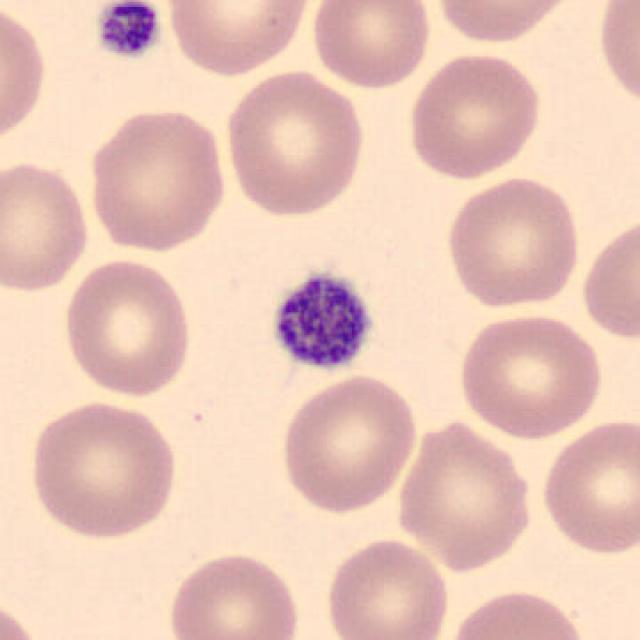Platelets: (267, 266, 377, 376), (89, 0, 165, 62)
RBC: (391, 416, 539, 575), (220, 67, 370, 220), (25, 397, 181, 541), (84, 104, 231, 254), (276, 370, 420, 517), (454, 308, 606, 442), (441, 173, 585, 310), (58, 256, 195, 400), (404, 50, 546, 182), (537, 414, 638, 557), (322, 534, 453, 640), (0, 155, 92, 296), (164, 548, 304, 640), (162, 0, 318, 78), (308, 0, 436, 92), (576, 210, 640, 346), (444, 585, 592, 640), (0, 0, 50, 152), (430, 0, 583, 46), (594, 0, 640, 115), (0, 594, 44, 640)
